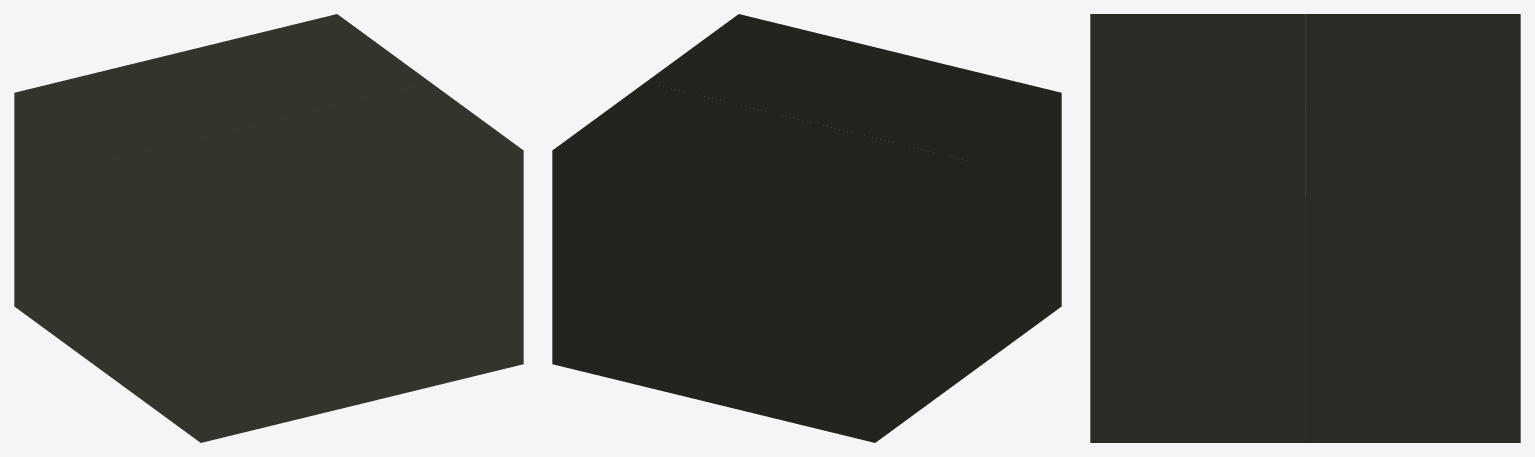
Rendered from env_bldg_guardhouse_a.glb.
3 views of the same model, side by side, from view 1: azimuth 30°, elevation 25°; view 2: azimuth 150°, elevation 25°; view 3: azimuth 270°, elevation 25° (orthographic). The views are drawn at different scales.
Parts seen in each view (by area): view 1: env_bldg_guardhouse_a; view 2: env_bldg_guardhouse_a; view 3: env_bldg_guardhouse_a.
Boxes of the visible parts, bbox=[...] form: env_bldg_guardhouse_a: bbox=[14, 14, 523, 442]; env_bldg_guardhouse_a: bbox=[552, 14, 1061, 442]; env_bldg_guardhouse_a: bbox=[1090, 14, 1520, 442].
Bounding box in the file's own units: 6 × 4.11 × 6.
Materials: 1 (1 with a texture image).
